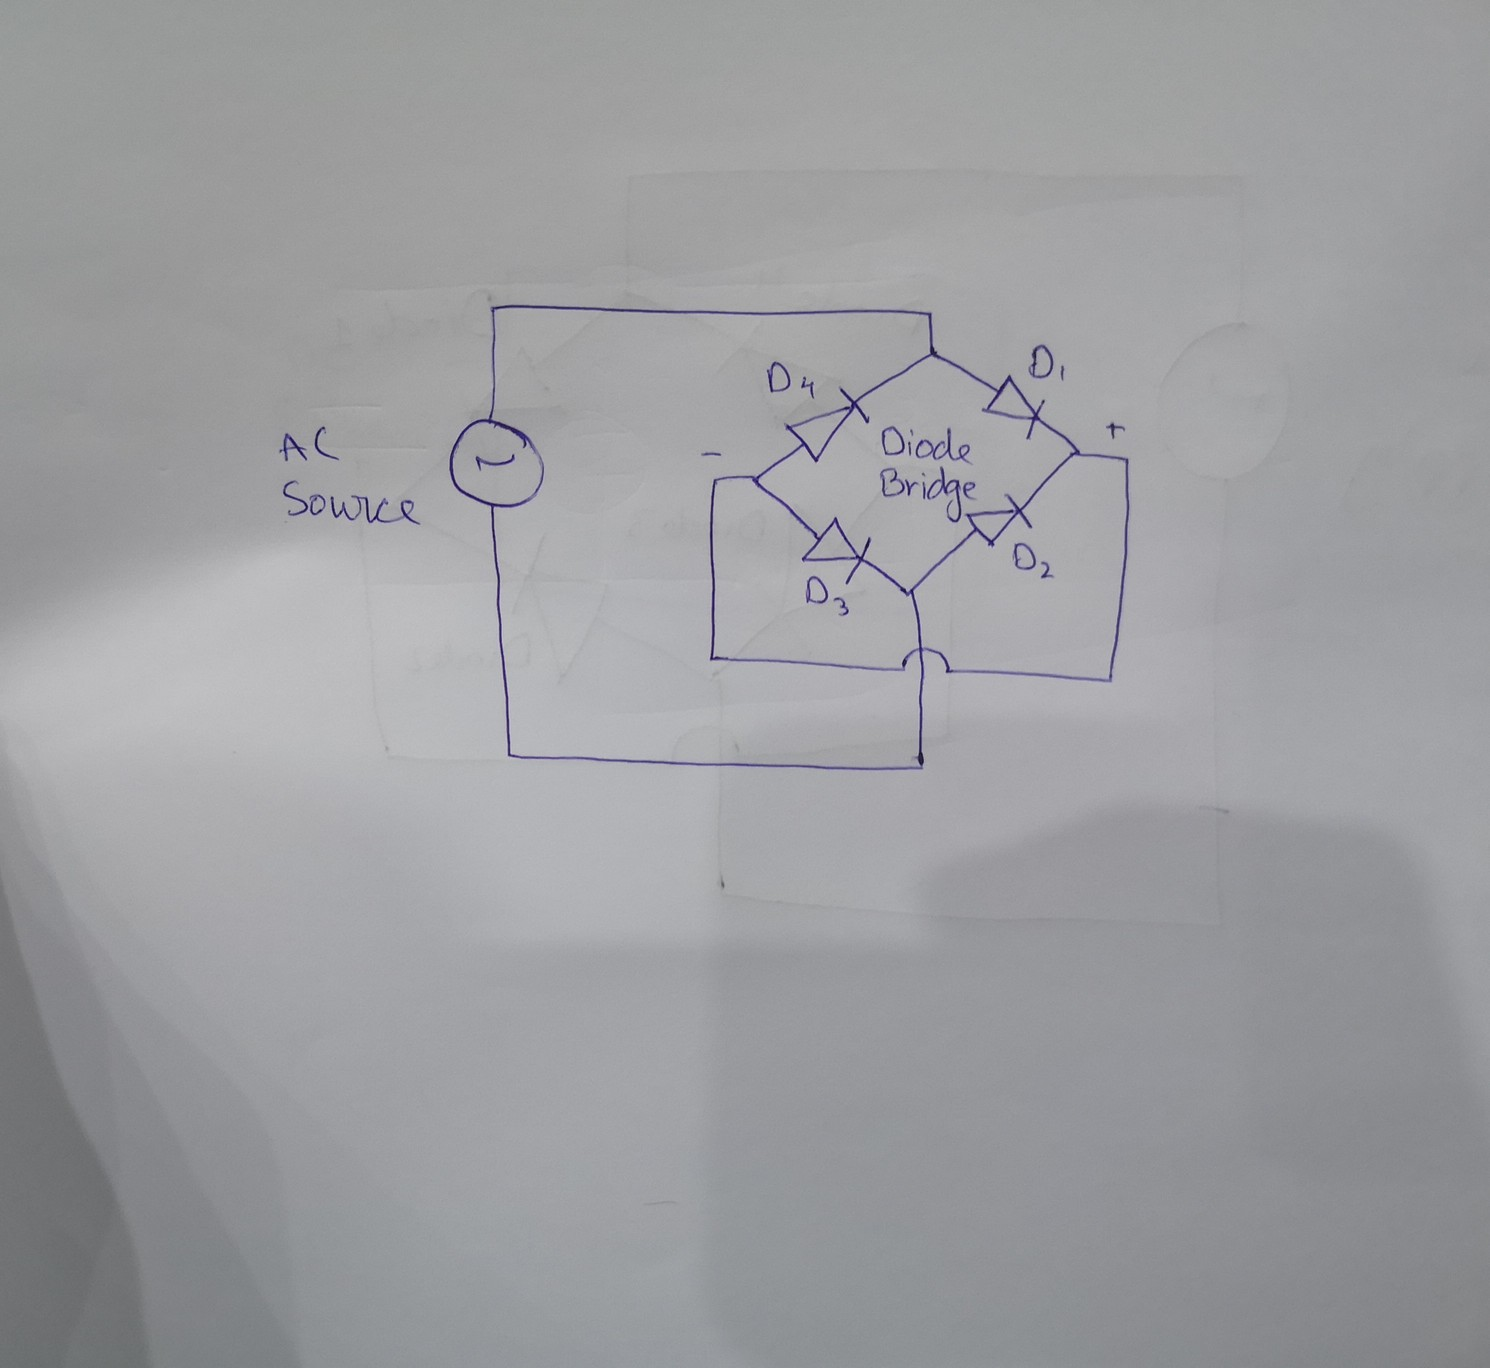crossover: (894, 645, 954, 681)
diode: (780, 382, 872, 466), (800, 511, 875, 588), (977, 370, 1049, 443), (966, 489, 1036, 549)
junction: (482, 297, 504, 321), (899, 580, 923, 601), (909, 751, 929, 775), (922, 341, 942, 363), (742, 469, 764, 489), (498, 744, 520, 764), (919, 306, 938, 324), (1101, 670, 1117, 689), (705, 650, 720, 667), (1066, 444, 1082, 459), (707, 471, 723, 487), (1117, 450, 1134, 465)
text: (280, 476, 424, 533), (877, 463, 979, 524), (877, 424, 972, 467), (274, 421, 348, 467), (763, 357, 820, 402), (801, 572, 853, 620), (1008, 540, 1059, 581), (1024, 340, 1069, 383)
voltage.dc_ac: (441, 411, 552, 511)
